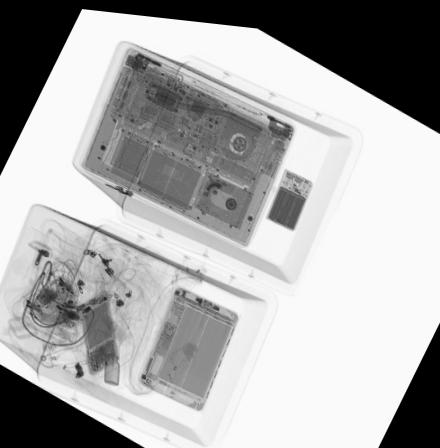Powerbank: (265, 161, 314, 225)
